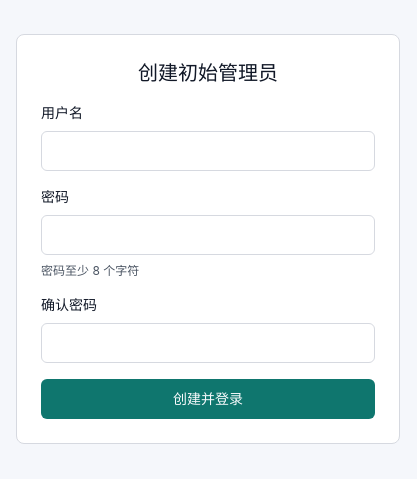
Test: does not initialize when the password confirmation differs
Type "Owner" into the field labelled "用户名" at (208,151), box [41, 131, 375, 171]
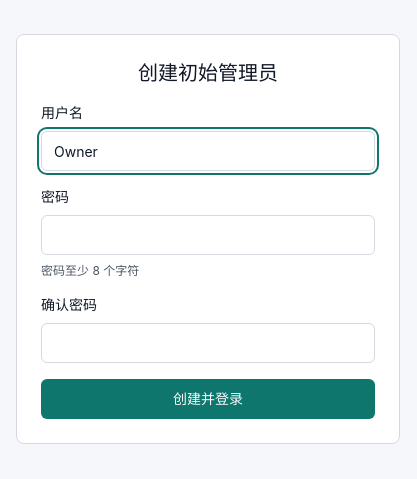
Type "password-one" into the password field labelled "密码" at (208,235), box [41, 215, 375, 255]
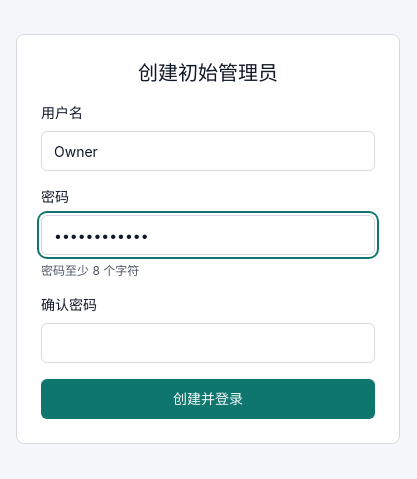
Type "password-two" into the password field labelled "确认密码" at (208,343), box [41, 323, 375, 363]
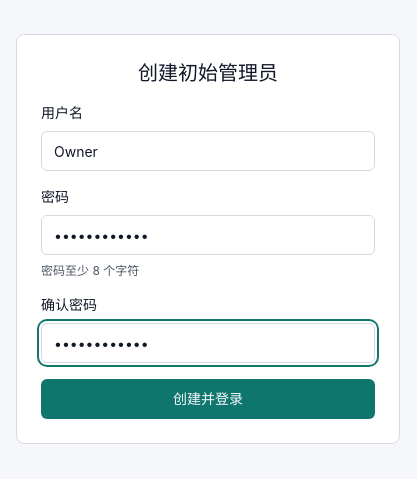
Click the button "创建并登录" at (208,399), box [41, 379, 375, 419]
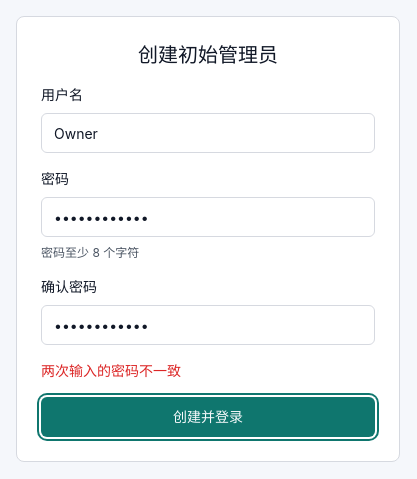
Check: the message reads "两次输入的密码不一致", box [41, 362, 181, 379]
